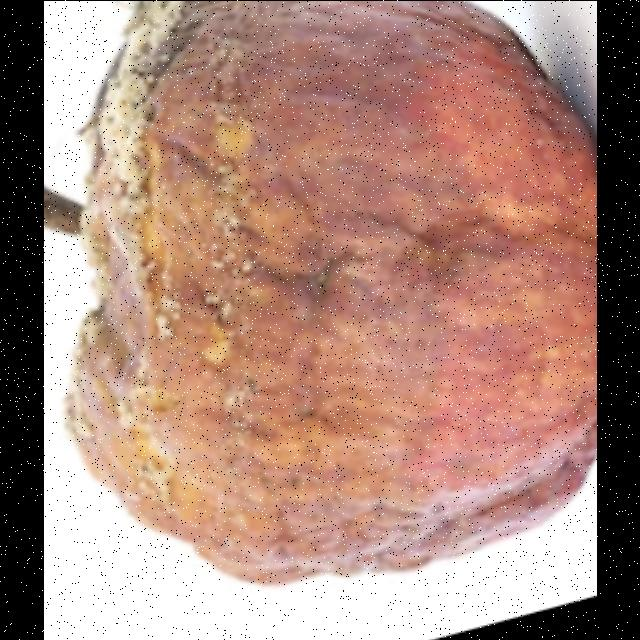Apel Tidak Segar: (44, 1, 596, 596)
